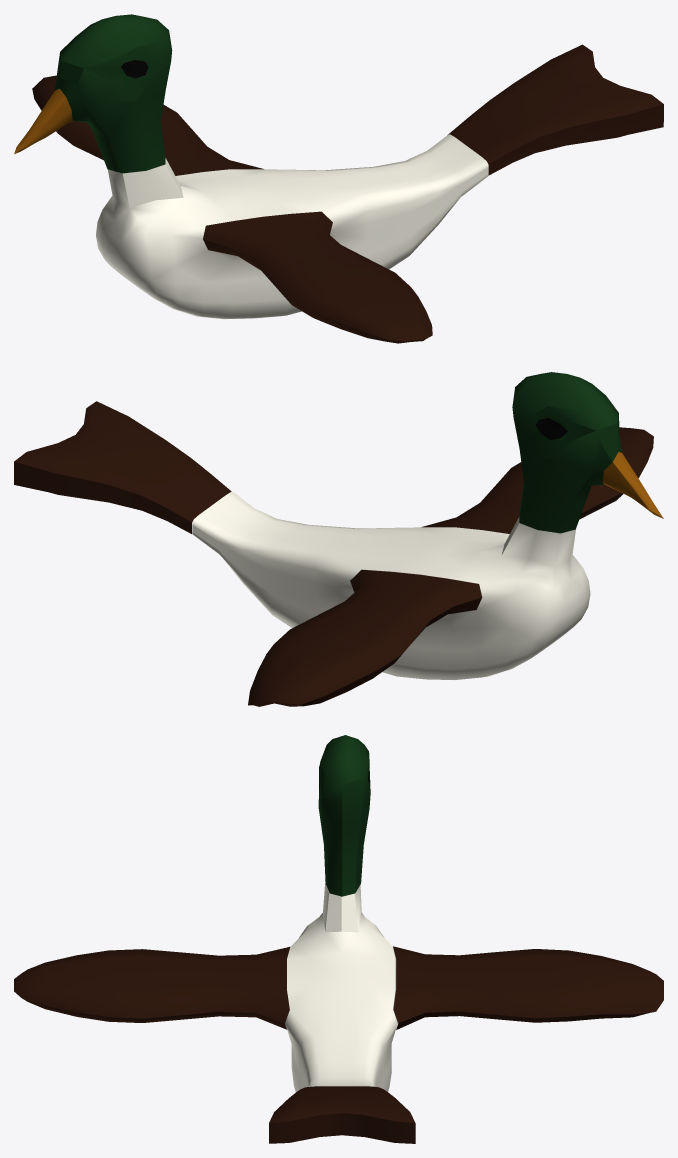
Rendered from pato.fbx.
3 renders of one model, top to bottom at view 1: azimuth 30°, elevation 25°; view 2: azimuth 150°, elevation 25°; view 3: azimuth 270°, elevation 25°, orthographic. The views are drawn at different scales.
Parts seen in each view (by area): view 1: cos; view 2: cos; view 3: cos.
Boxes of the visible parts, x1=… form: cos: x1=14, y1=14, x2=663, y2=343; cos: x1=14, y1=372, x2=663, y2=706; cos: x1=14, y1=735, x2=663, y2=1143.
Size of the model in its own units: 1.57 by 0.7943 by 1.63.
